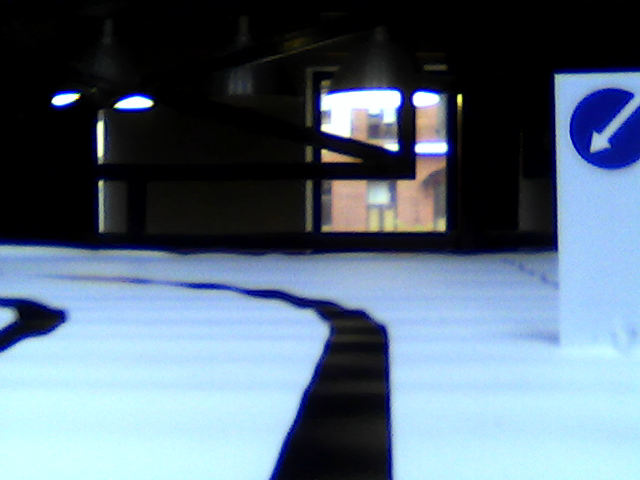prep: (568, 87, 640, 170)
